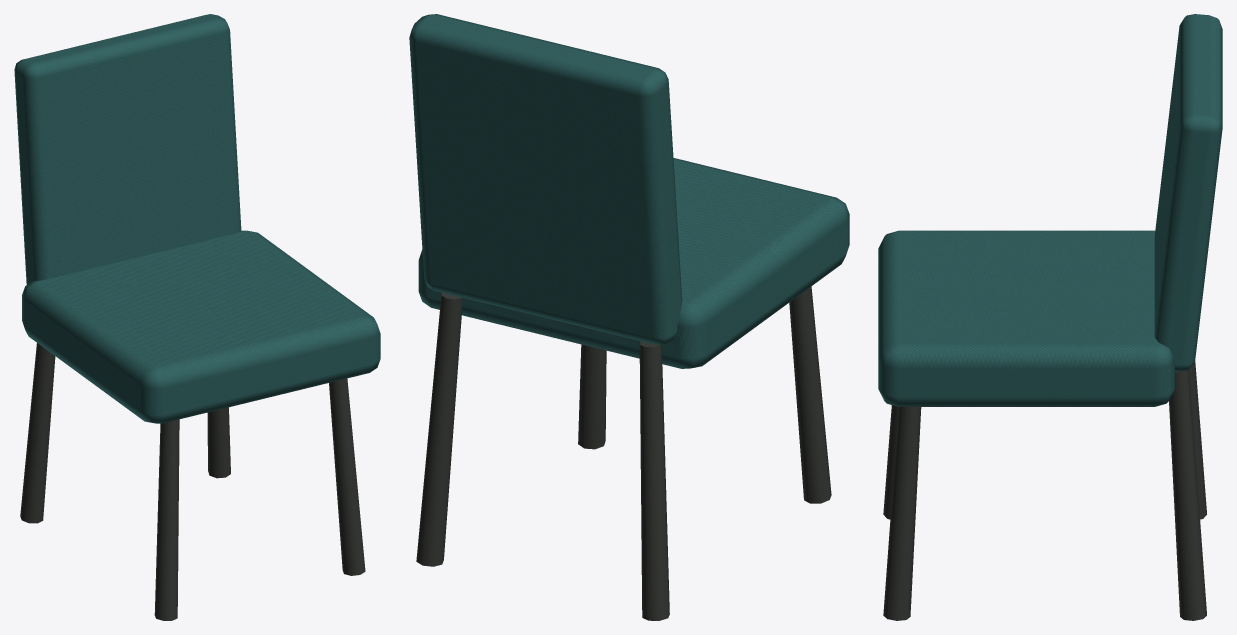
Rendered from bergmund-mobile.glb.
3 renders of one model, left to right at view 1: azimuth 30°, elevation 25°; view 2: azimuth 150°, elevation 25°; view 3: azimuth 270°, elevation 25°, orthographic. The views are drawn at different scales.
Parts seen in each view (by area): view 1: BERGMUND Upholstered dining chair; view 2: BERGMUND Upholstered dining chair; view 3: BERGMUND Upholstered dining chair.
Boxes of the visible parts, x1,y1,x2,y2 form: BERGMUND Upholstered dining chair: (14, 14, 380, 620); BERGMUND Upholstered dining chair: (409, 14, 849, 620); BERGMUND Upholstered dining chair: (878, 14, 1222, 620).
Bounding box in the file's own units: 0.52 × 0.95 × 0.59.
2 materials, 2 textured.
